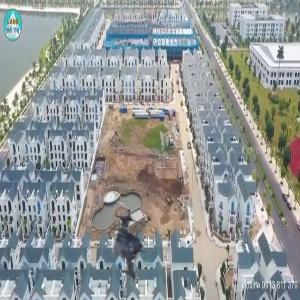drone: (82, 201, 169, 288)
